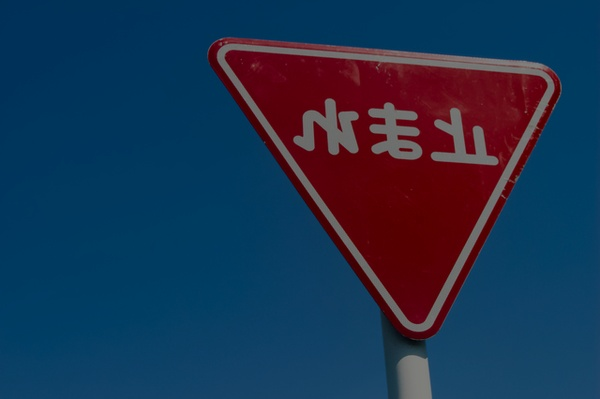Regulatory_sign_triangle: (198, 24, 565, 343)
